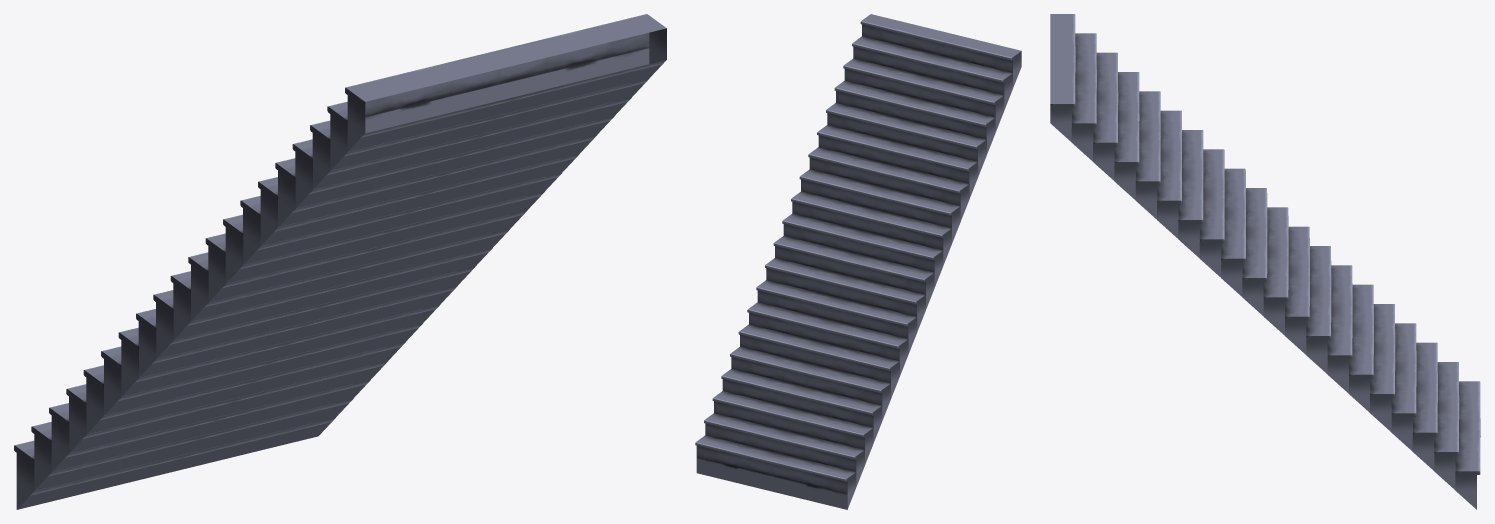
Rendered from Stairs.fbx.
The picture shows the model from 3 angles, left to right: view 1: azimuth 30°, elevation 25°; view 2: azimuth 150°, elevation 25°; view 3: azimuth 270°, elevation 25°; orthographic projection. The views are drawn at different scales.
Visible parts, largest first — view 1: Stairs.002; view 2: Stairs.002; view 3: Stairs.002.
Part boxes in pixels (<box>): Stairs.002: <box>14,14,666,509</box>; Stairs.002: <box>695,14,1021,509</box>; Stairs.002: <box>1050,14,1480,509</box>.
Size of the model in its own units: 500 by 1050 by 1008.
